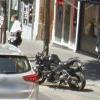Motorcycle: (31, 45, 89, 95)
